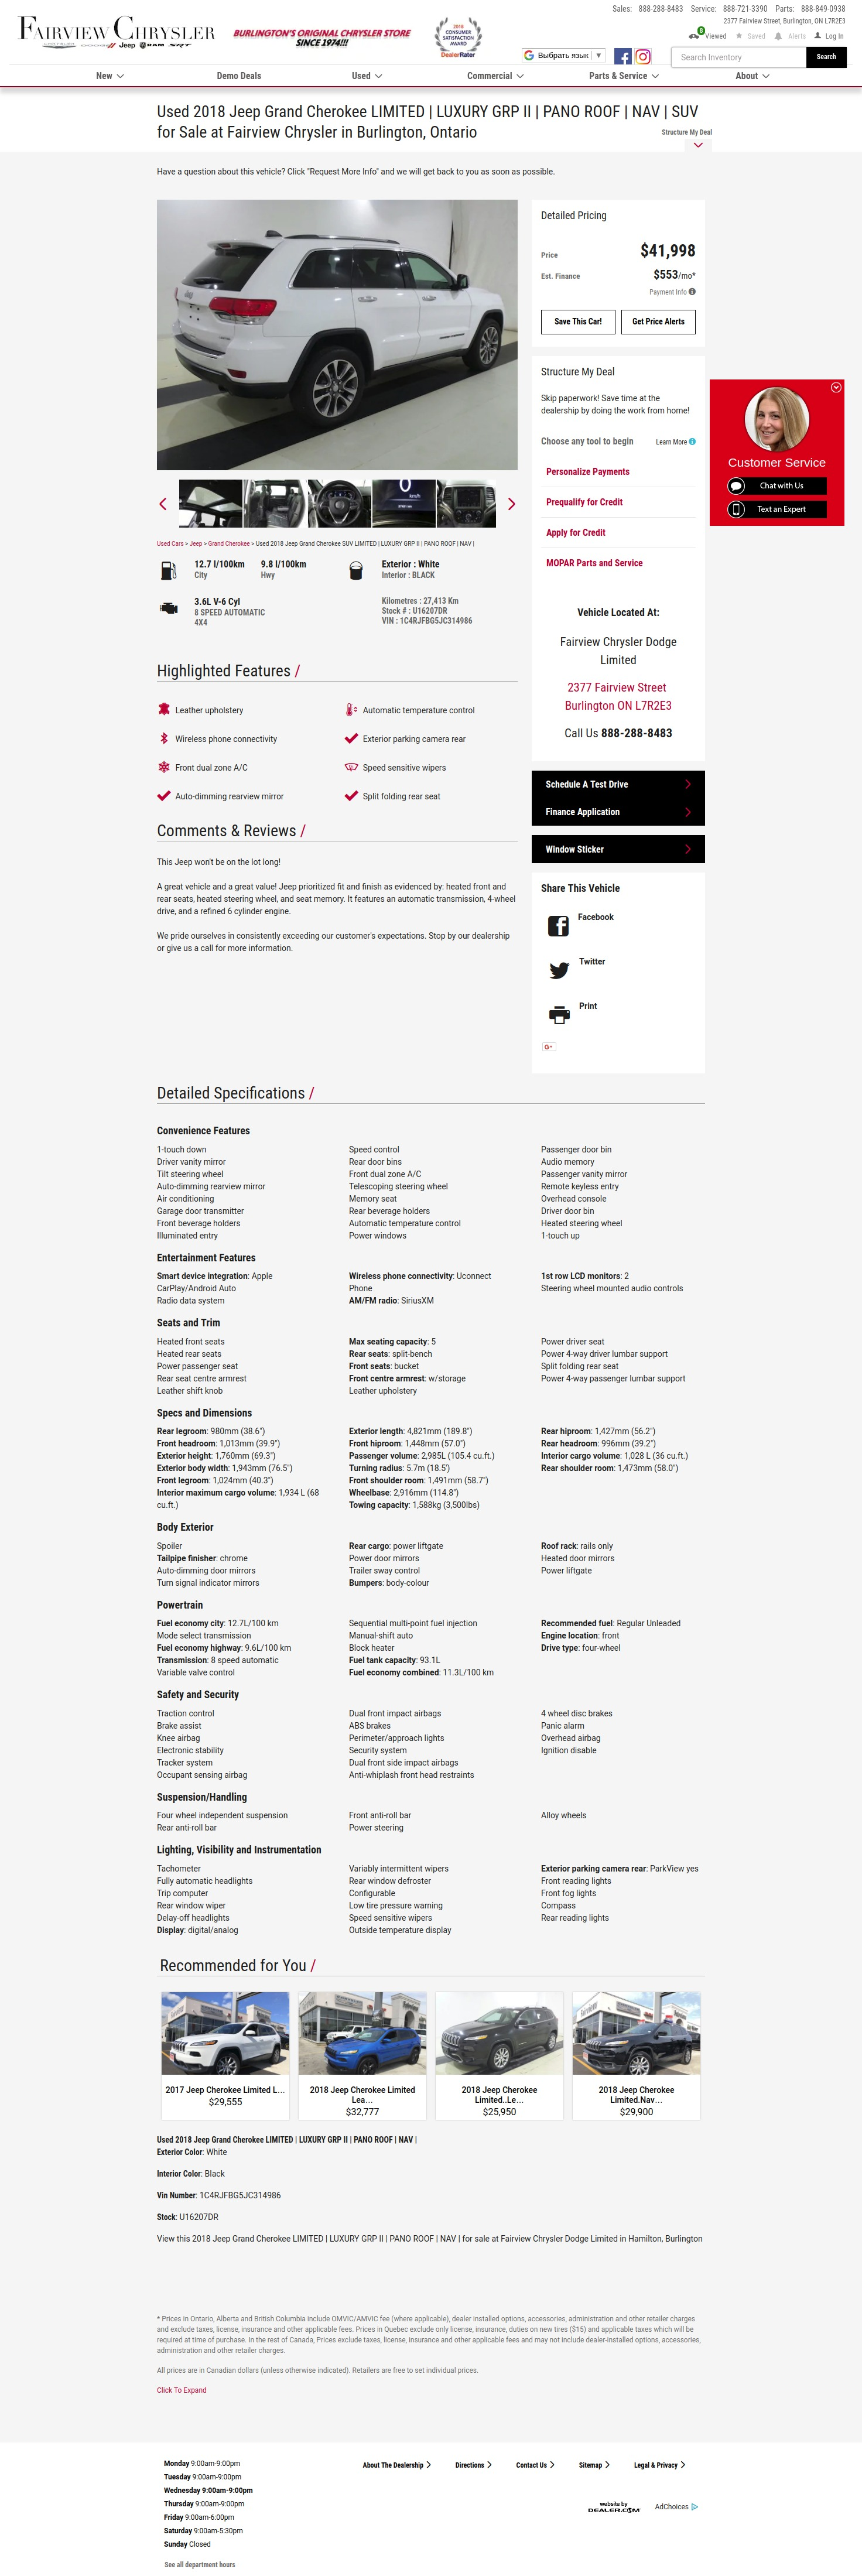car: (509, 498, 516, 511)
